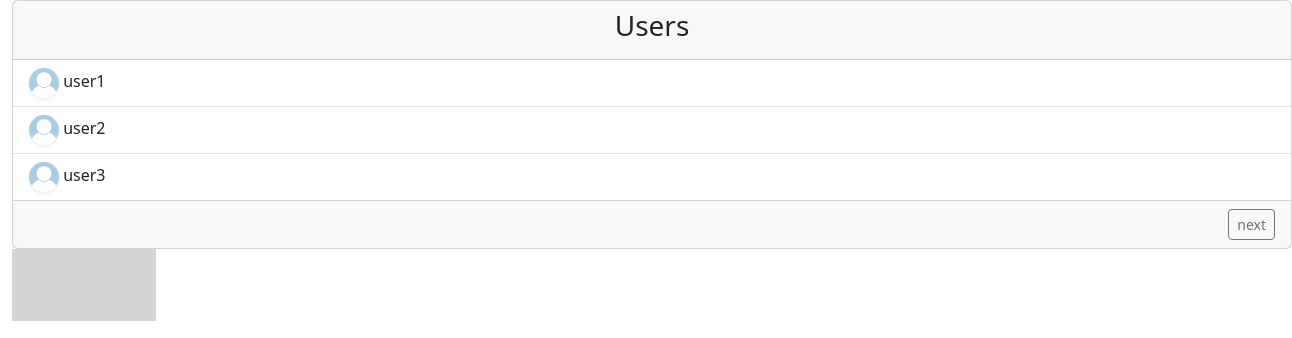
Scenario: User List › Exibir a página anterior após clicar no botão previous
Expected: the list item "user1" is shown, [13, 60, 1291, 107]
Click the button "next". click: (1252, 224)
box: [1228, 209, 1275, 240]
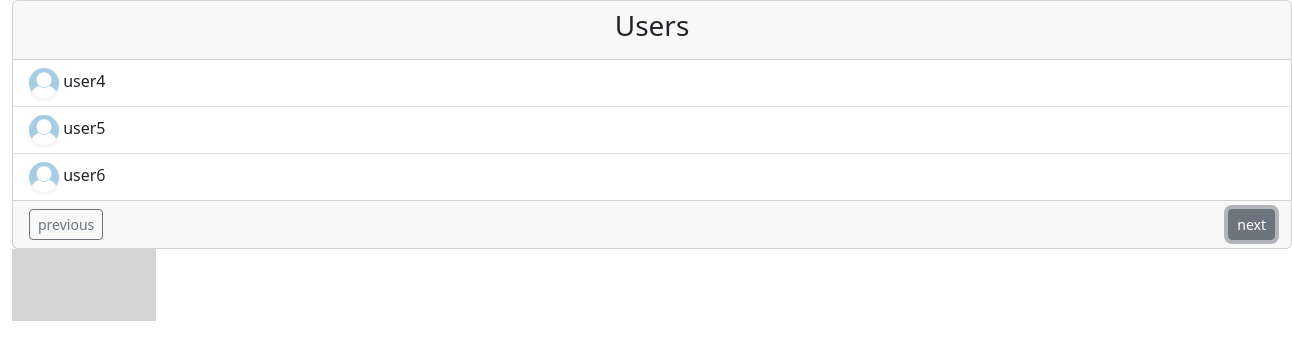
Expected: the list item "user4" is shown, [13, 60, 1291, 107]
Click the button "previous". click: (66, 224)
box: [29, 209, 103, 240]
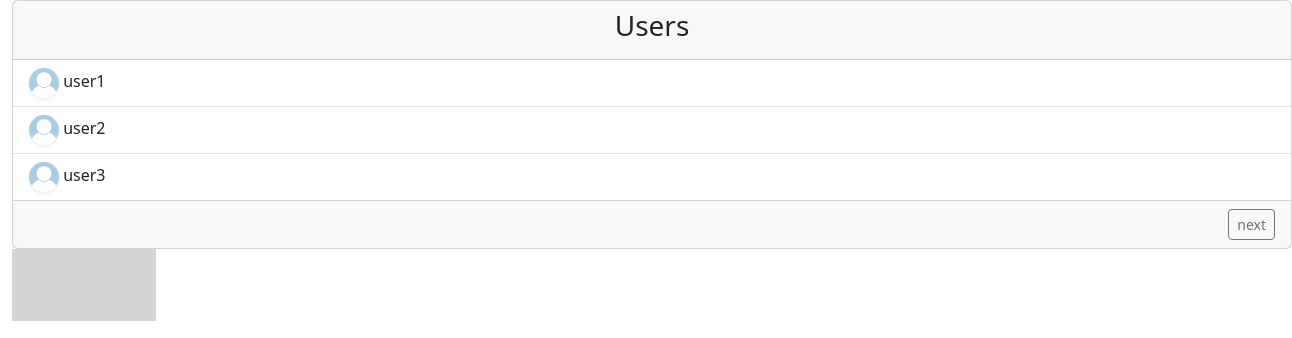
Expected: the list item "user1" is shown, [13, 60, 1291, 107]
